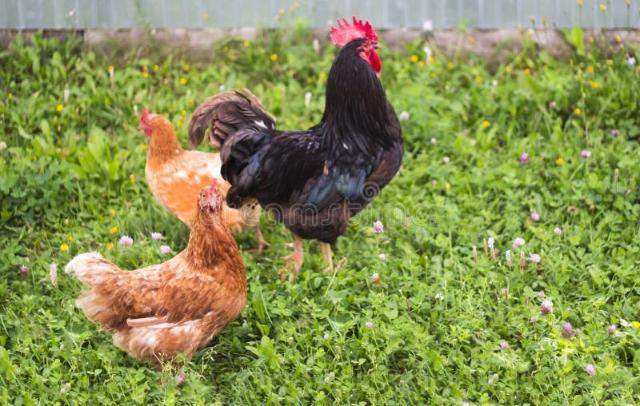Chicken: (188, 16, 404, 267), (66, 180, 245, 367), (138, 106, 268, 251)
